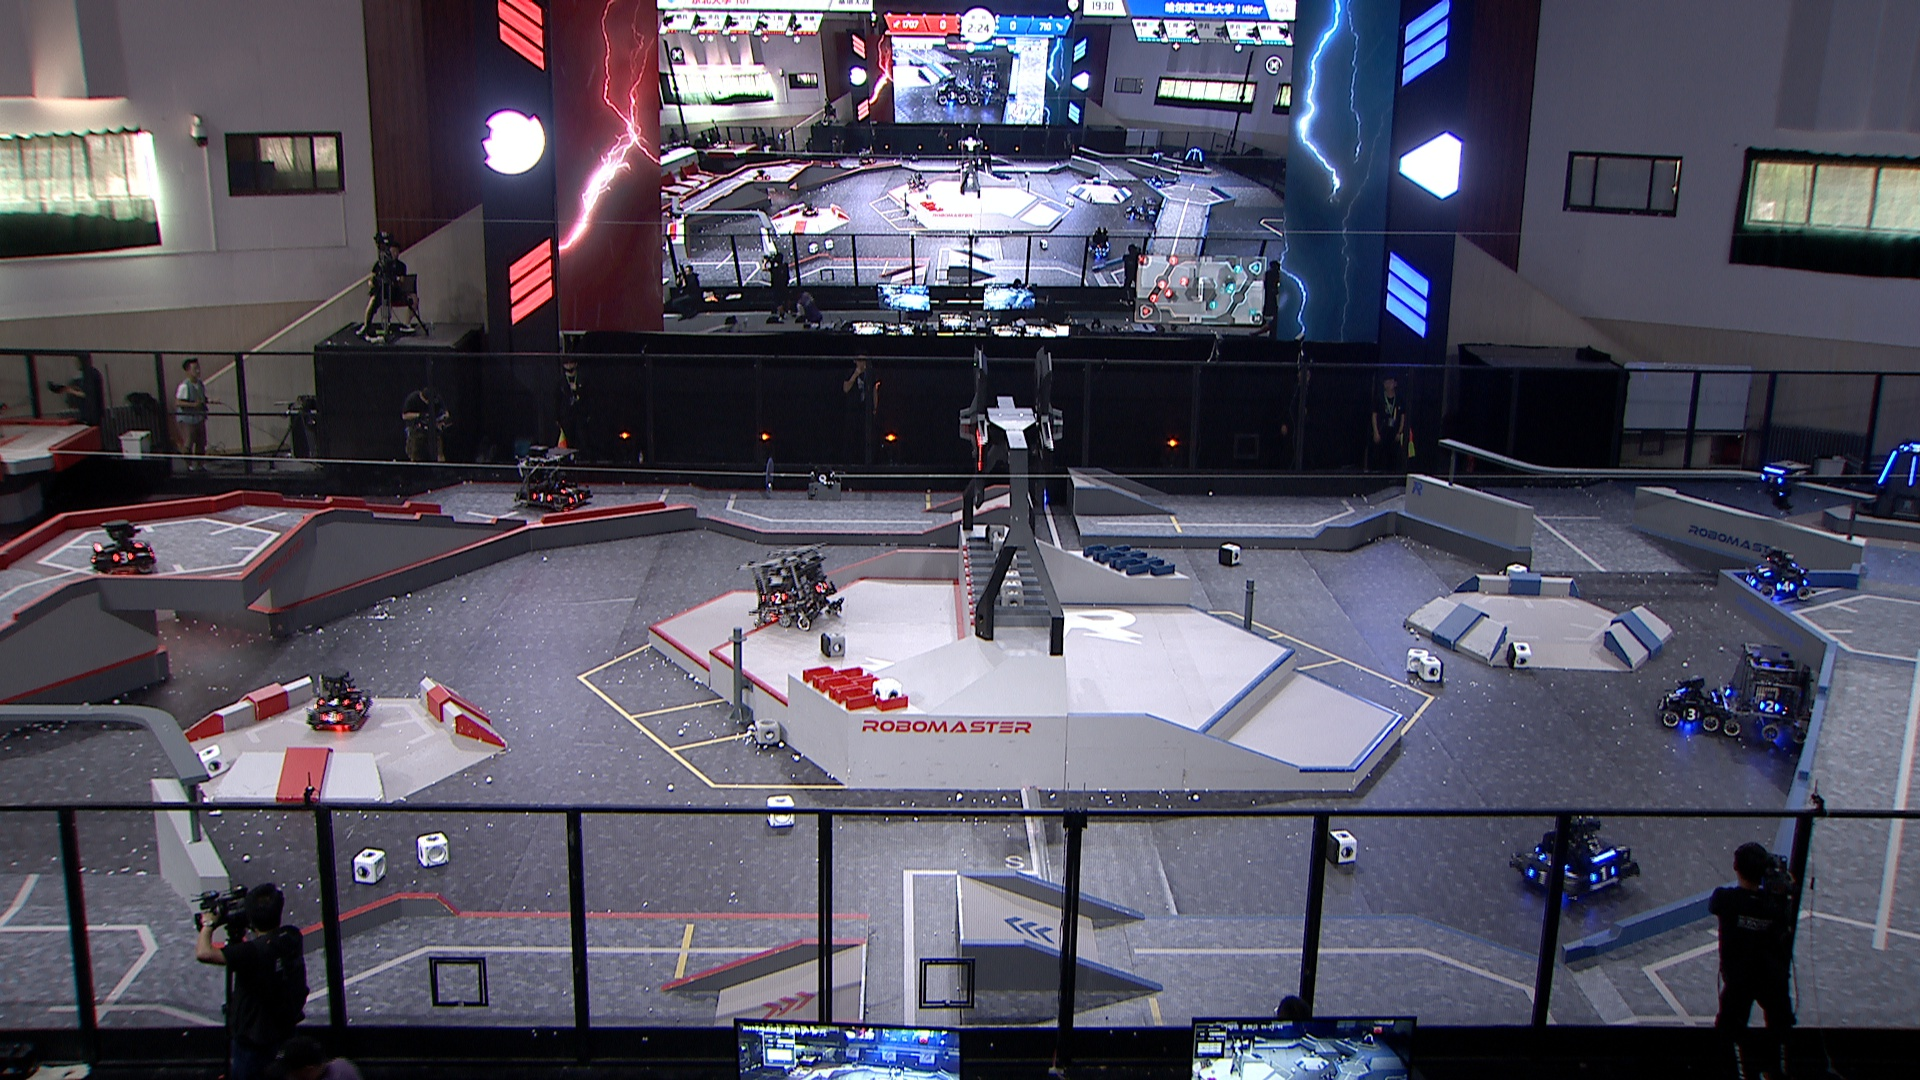armor: (1876, 450, 1899, 487), (1524, 865, 1555, 887), (1588, 866, 1618, 884), (316, 698, 351, 709), (318, 711, 345, 725), (1759, 472, 1784, 487), (1908, 454, 1917, 488), (531, 491, 555, 504), (112, 551, 136, 564), (1759, 700, 1783, 713), (1774, 580, 1795, 595), (1681, 708, 1702, 723), (1665, 690, 1684, 705), (769, 591, 789, 605), (1756, 564, 1774, 580), (567, 491, 585, 505), (1743, 574, 1759, 588), (1902, 444, 1920, 456), (814, 582, 829, 595), (352, 698, 368, 711), (1656, 698, 1667, 713), (560, 487, 578, 495)
base: (1854, 443, 1920, 526)
car: (1509, 814, 1638, 906), (1721, 641, 1818, 746), (735, 541, 847, 632), (513, 444, 593, 516), (305, 670, 375, 736), (1742, 547, 1820, 604), (90, 516, 157, 578), (1655, 673, 1724, 733)
ignore: (967, 57, 1007, 104), (932, 74, 969, 107), (1182, 148, 1207, 171), (1139, 196, 1162, 222), (666, 202, 688, 223), (909, 173, 930, 194), (1091, 240, 1112, 258), (858, 146, 877, 166), (800, 200, 818, 218), (1124, 204, 1145, 218), (1147, 174, 1166, 189), (754, 169, 773, 183), (1150, 150, 1166, 164)
watcher: (1756, 458, 1809, 514)
